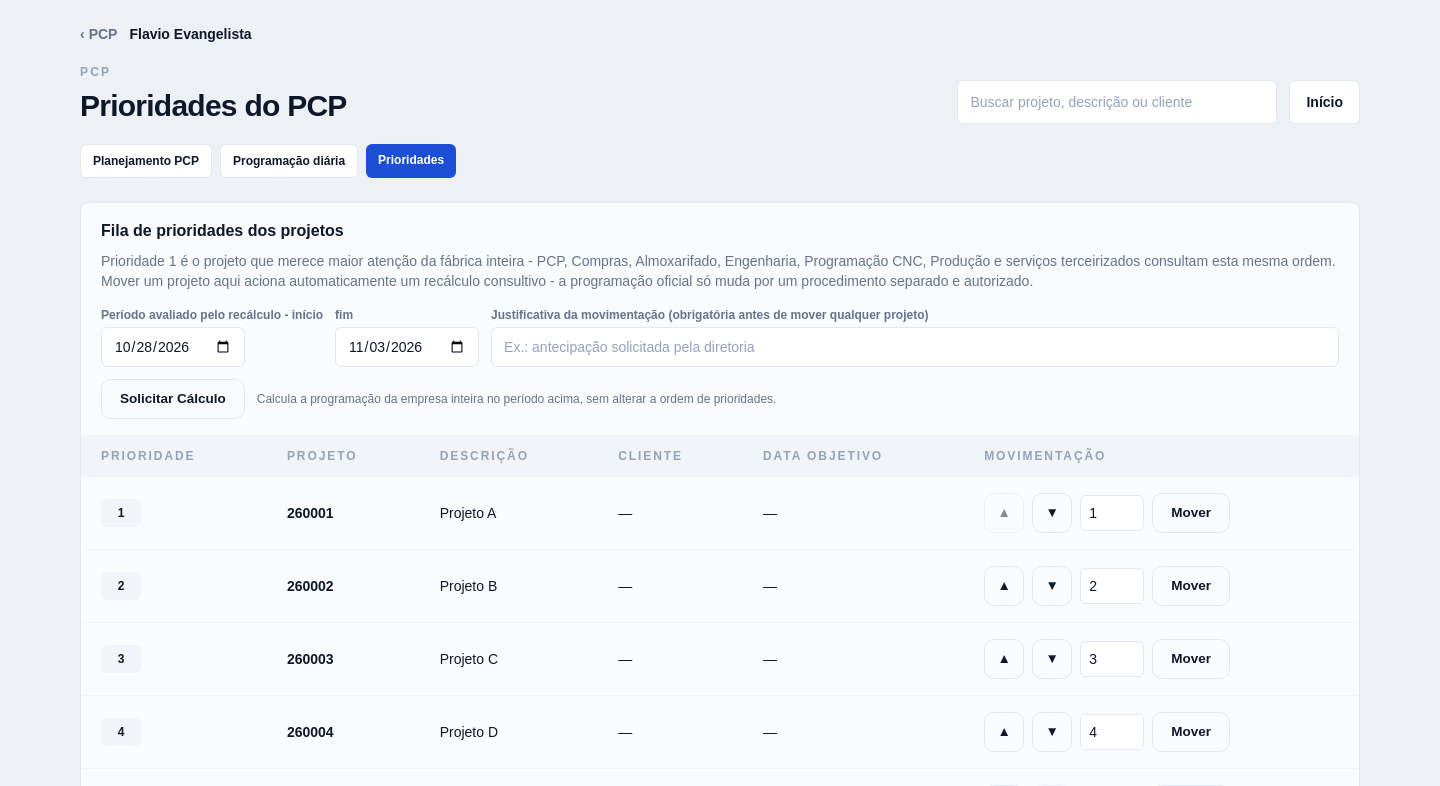
Test: PrioridadesPcpPage - componente › movimento com sucesso mas recálculo real interrompido pelo supervisor: mensagem honesta, nunca finge um resultado do Motor
The image size is (1440, 786).
In the field labelled "Justificativa da movimentação": (915, 347) x1=491 y1=327 x2=1339 y2=367, type "justificativa de teste"
(page scrolled)
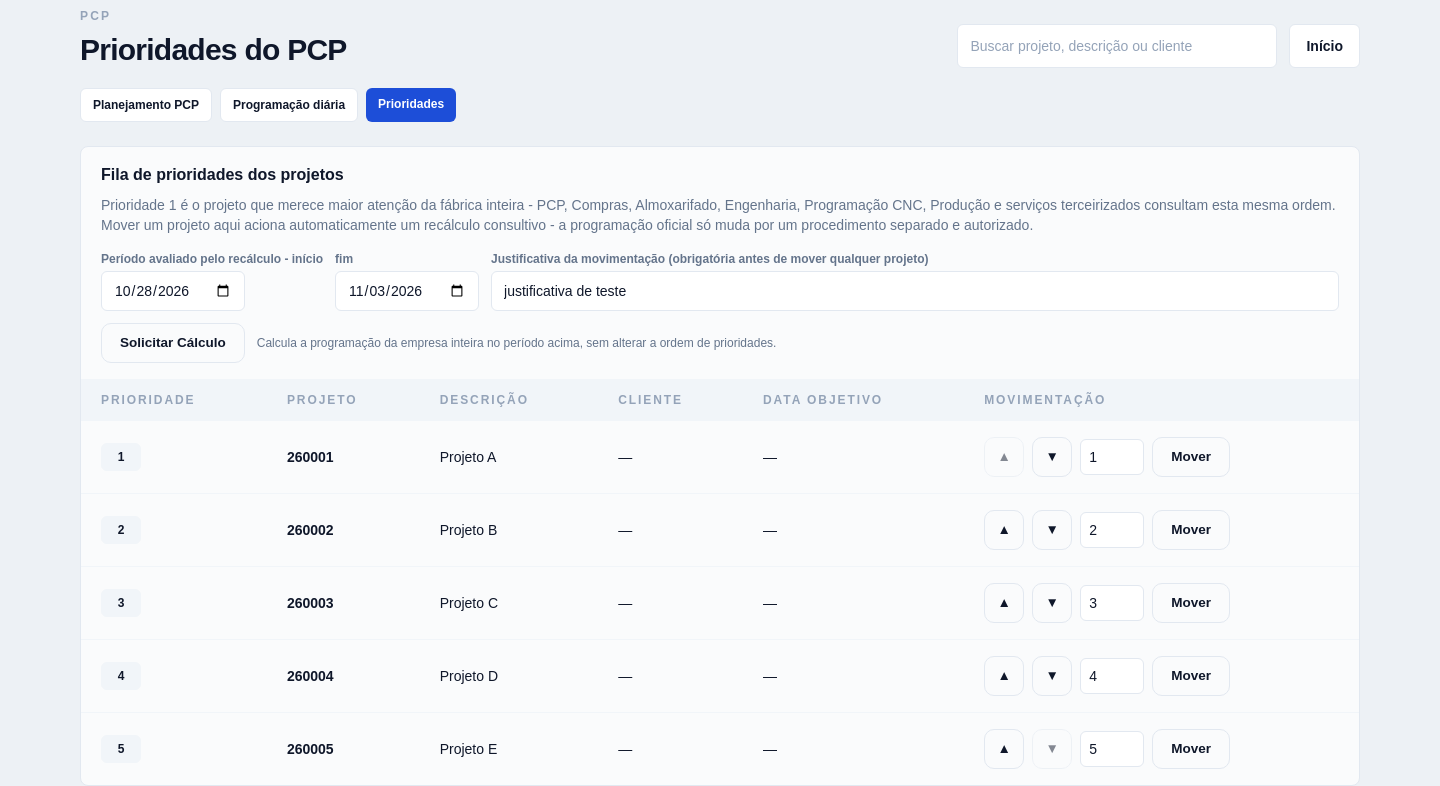
Click the button named "Subir prioridade do projeto 260005": (1004, 749) x1=984 y1=729 x2=1024 y2=769
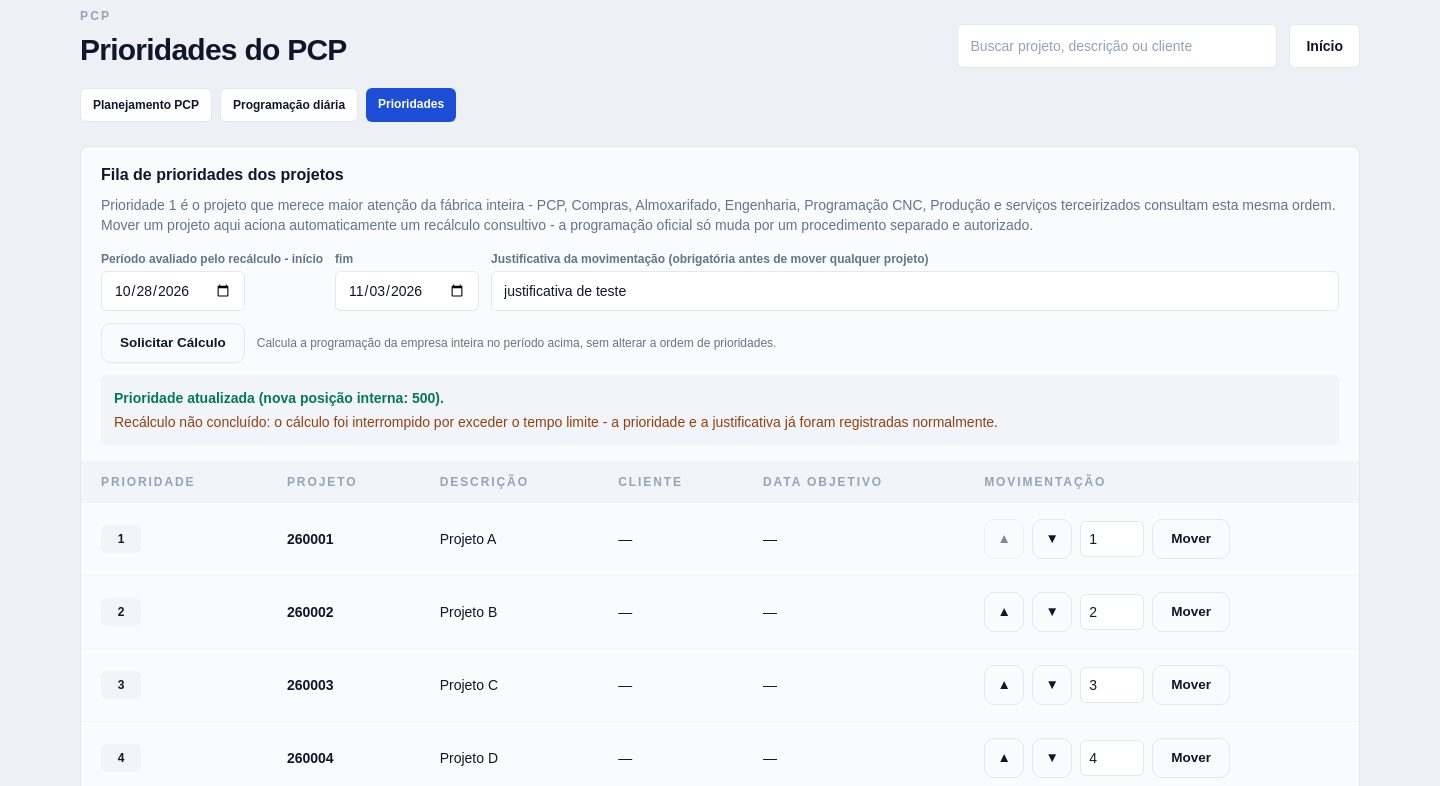
Expected: the text "Prioridade atualizada (nova posição interna: 500)." is shown, x1=114 y1=390 x2=444 y2=406
Expected: the text "interrompido por exceder o tempo limite" is shown, x1=274 y1=414 x2=998 y2=430
